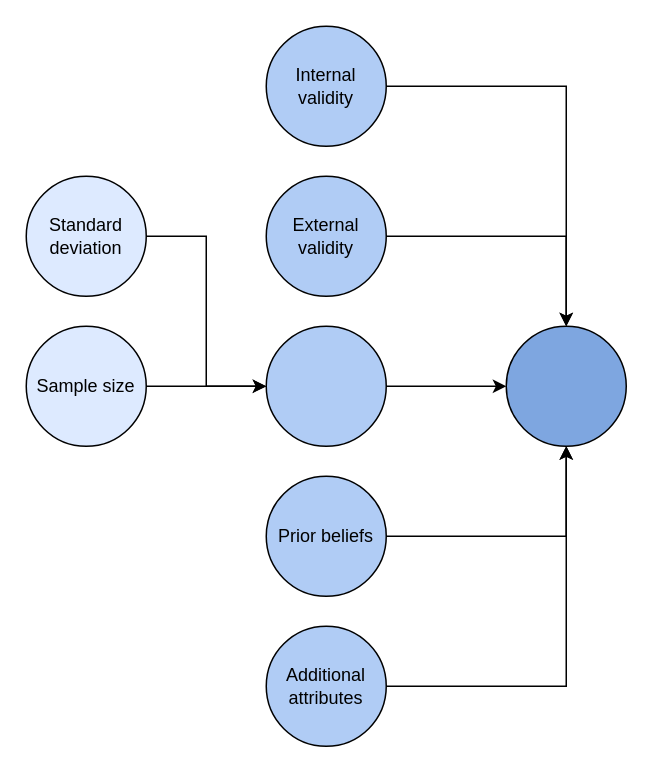
This 653x773 diagram has some shape labels left out. Each missing label, with the centre of its shape:
Standard error: [325,385]
Uncertainty: [565,385]
